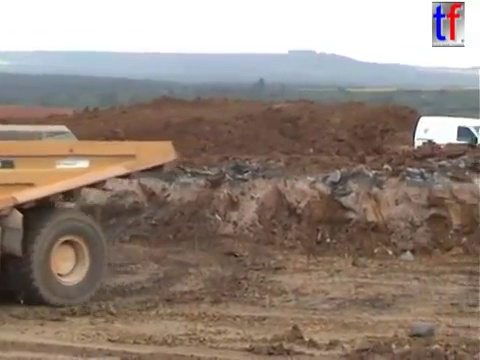truck: (1, 121, 180, 310)
